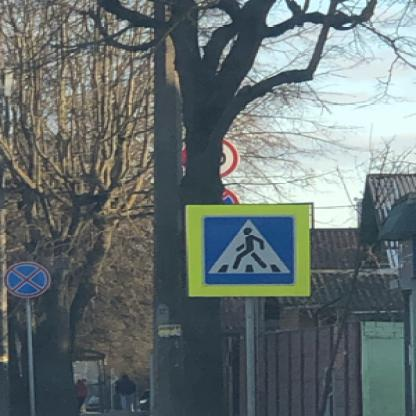crosswalk: (200, 213, 295, 284)
